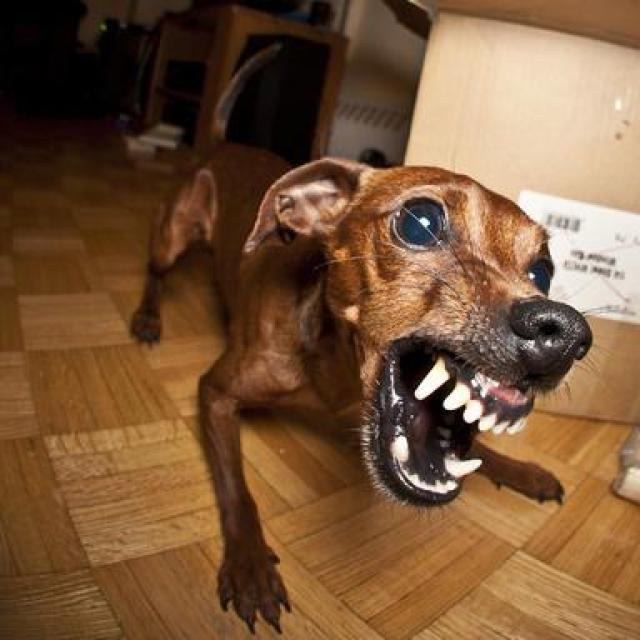angry: (254, 131, 640, 555)
